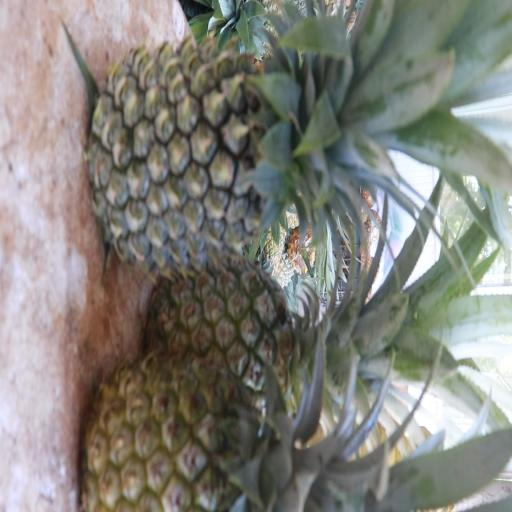------------------------------: (75, 361, 419, 512), (143, 240, 381, 428)
